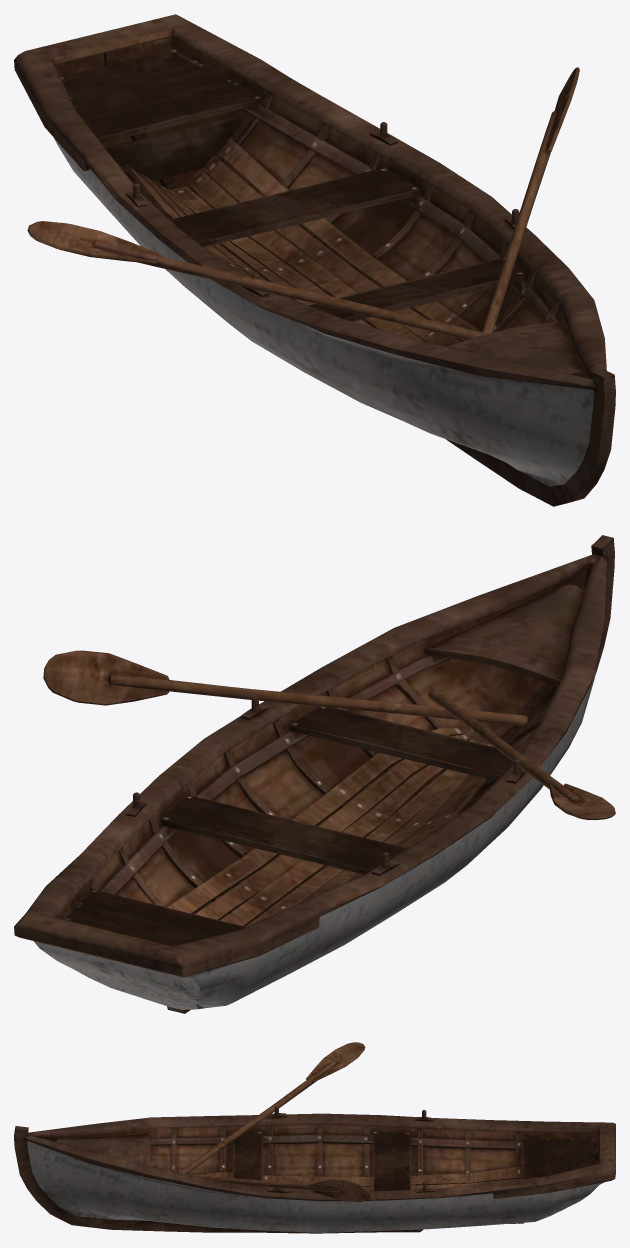
Rendered from prop_barca.glb.
The picture shows the model from 3 angles, top to bottom: view 1: azimuth 30°, elevation 25°; view 2: azimuth 150°, elevation 25°; view 3: azimuth 270°, elevation 25°; orthographic projection. The views are drawn at different scales.
Parts seen in each view (by area): view 1: body_low, seat_back_low, seat_centre_low, oar_low1, pCube39_low, pCube34_low, seat_front_low, front_cover_low, pCube33_low, pCube32_low, oar_low, pCube28_low (+4 smaller); view 2: body_low, oar_low, front_cover_low, seat_centre_low, seat_front_low, seat_back_low, pCube34_low, pCube33_low, pCube32_low, oar_low1, pCube28_low, pCube29_low (+5 smaller); view 3: body_low, seat_back_low, seat_centre_low, oar_low1, pCube30_low, front_cover_low, oar_low, seat_front_low, pCube31_low.
Boxes of the visible parts, <box> form: body_low: <box>14,14,615,506</box>; seat_back_low: <box>60,49,262,143</box>; seat_centre_low: <box>170,167,419,247</box>; oar_low1: <box>27,221,487,339</box>; pCube39_low: <box>105,113,247,181</box>; pCube34_low: <box>218,138,481,341</box>; seat_front_low: <box>308,257,524,321</box>; front_cover_low: <box>447,320,590,378</box>; pCube33_low: <box>203,155,460,346</box>; pCube32_low: <box>187,169,423,341</box>; oar_low: <box>481,67,579,333</box>; pCube28_low: <box>170,186,372,327</box>; body_low: <box>14,535,614,1013</box>; oar_low: <box>43,650,527,726</box>; front_cover_low: <box>423,584,583,686</box>; seat_centre_low: <box>161,795,407,874</box>; seat_front_low: <box>289,706,513,780</box>; seat_back_low: <box>65,889,245,946</box>; pCube34_low: <box>167,728,463,913</box>; pCube33_low: <box>195,734,469,919</box>; pCube32_low: <box>220,739,478,926</box>; oar_low1: <box>428,689,615,820</box>; pCube28_low: <box>246,743,485,926</box>; pCube29_low: <box>302,744,492,902</box>; body_low: <box>14,1113,615,1233</box>; seat_back_low: <box>522,1137,595,1178</box>; seat_centre_low: <box>373,1131,410,1190</box>; oar_low1: <box>178,1042,365,1174</box>; pCube30_low: <box>195,1167,522,1186</box>; front_cover_low: <box>57,1133,149,1166</box>; oar_low: <box>188,1174,370,1202</box>; seat_front_low: <box>233,1132,262,1187</box>; pCube31_low: <box>263,1178,521,1190</box>.
Bounding box in the file's own units: 685 × 244 × 1090.
Materials: 1 (1 with a texture image).
